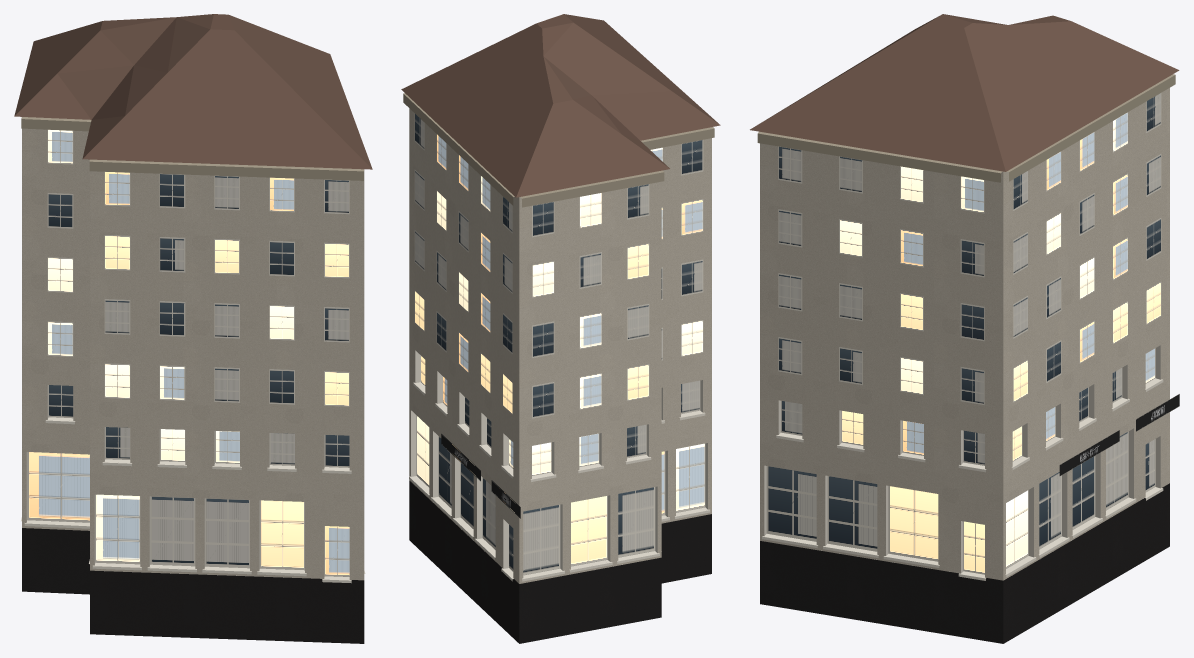
File: langC_allegrotto.glb
3 renders of one model, left to right at view 1: azimuth 30°, elevation 25°; view 2: azimuth 150°, elevation 25°; view 3: azimuth 270°, elevation 25°, orthographic. The views are drawn at different scales.
Parts seen in each view (by area): view 1: langC_allegrotto; view 2: langC_allegrotto; view 3: langC_allegrotto.
Boxes of the visible parts, left/top/right/bottom form: langC_allegrotto: left=14, top=14, right=372, bottom=643; langC_allegrotto: left=401, top=14, right=720, bottom=643; langC_allegrotto: left=750, top=14, right=1179, bottom=643.
Bounding box in the file's own units: 14.86 × 26.53 × 18.48.
3 materials, 3 textured.
